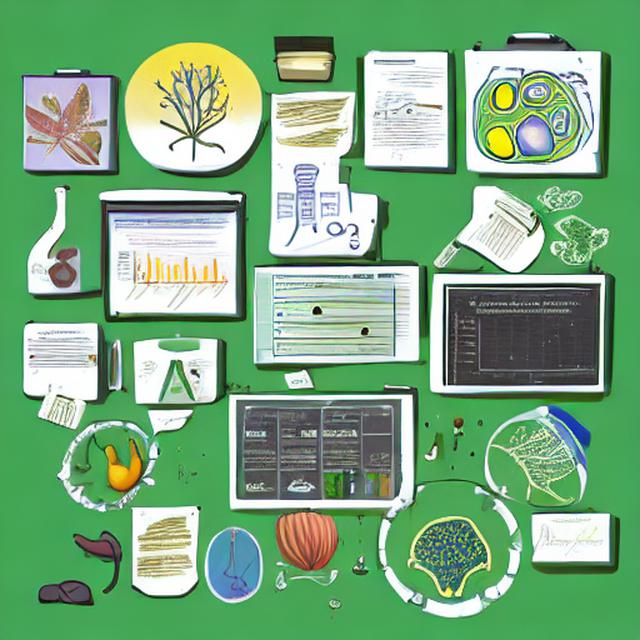Graph: (449, 299, 598, 386), (113, 238, 233, 310), (538, 516, 606, 559)
